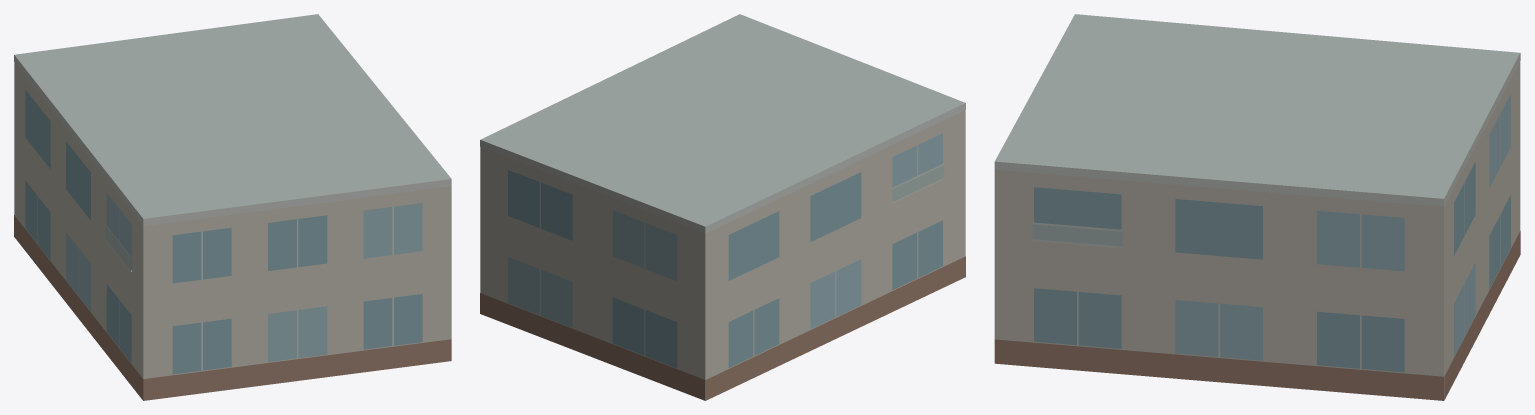
Rendered from survey-upis-32722583.glb.
The picture shows the model from 3 angles, left to right: view 1: azimuth 30°, elevation 25°; view 2: azimuth 150°, elevation 25°; view 3: azimuth 270°, elevation 25°; orthographic projection. The views are drawn at different scales.
Visible parts, largest first — view 1: survey-upis-32722583.tmp; view 2: survey-upis-32722583.tmp; view 3: survey-upis-32722583.tmp.
Boxes of the visible parts, bbox=[...] form: survey-upis-32722583.tmp: bbox=[14, 14, 451, 400]; survey-upis-32722583.tmp: bbox=[480, 14, 965, 400]; survey-upis-32722583.tmp: bbox=[994, 14, 1520, 400].
Size of the model in its own units: 11.98 by 6.1 by 14.4.
